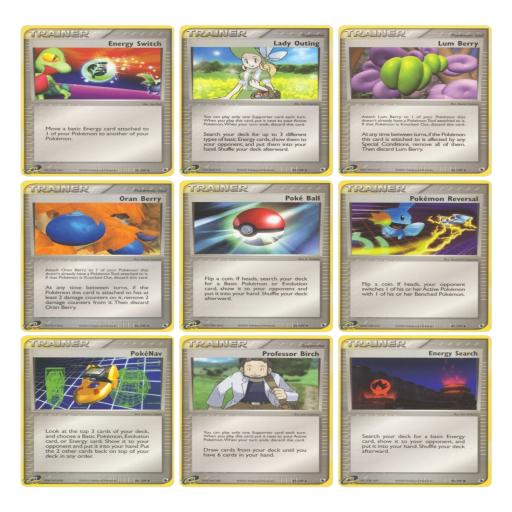card: (21, 335, 175, 488), (179, 180, 334, 332), (338, 25, 493, 177), (180, 335, 333, 488), (338, 336, 493, 487), (20, 25, 175, 176), (339, 180, 492, 332), (180, 25, 333, 177), (21, 180, 174, 332)
